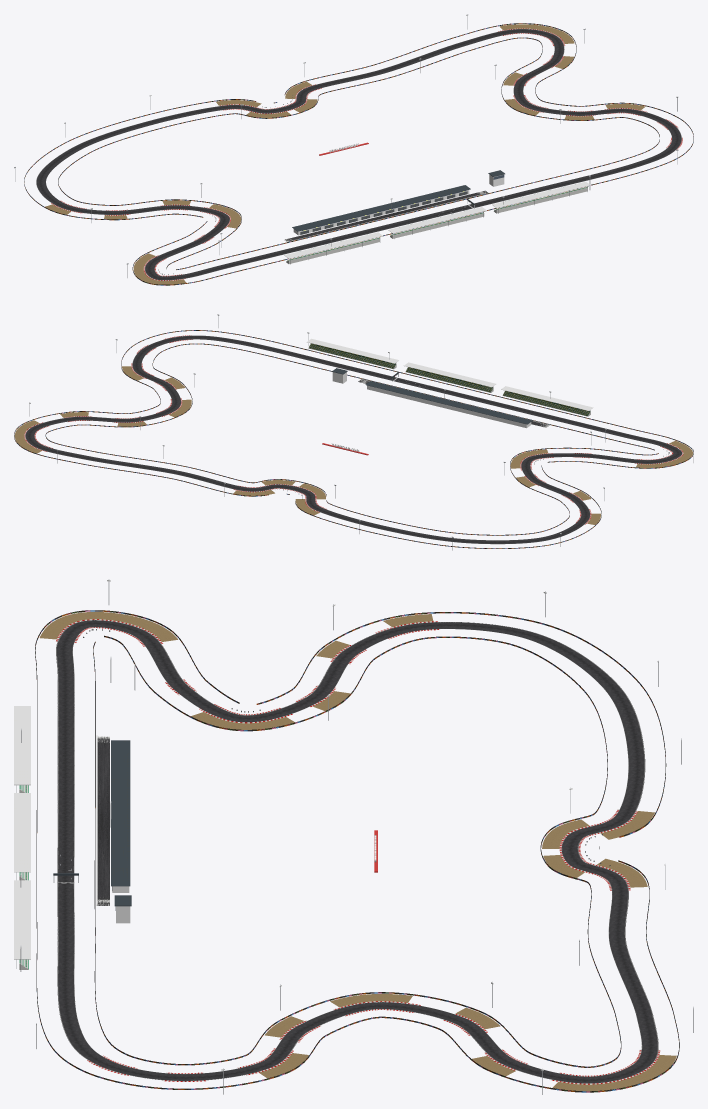
Rendered from set_raceway.glb.
The picture shows the model from 3 angles, top to bottom: view 1: azimuth 30°, elevation 25°; view 2: azimuth 150°, elevation 25°; view 3: azimuth 270°, elevation 25°; orthographic projection. The views are drawn at different scales.
Visible parts, largest first — view 1: GR_set_raceway; view 2: GR_set_raceway; view 3: GR_set_raceway.
Part boxes in pixels (x1,y1,x2,y2): GR_set_raceway: [14, 14, 693, 285]; GR_set_raceway: [14, 314, 693, 550]; GR_set_raceway: [14, 579, 693, 1094].
Bounding box in the file's own units: 958 × 23.17 × 561.
12 materials, 10 textured.
